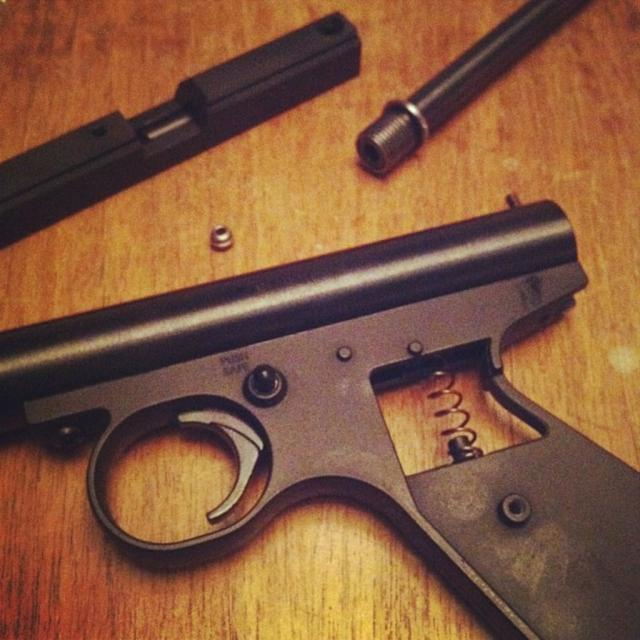Gun: (0, 202, 640, 640)
